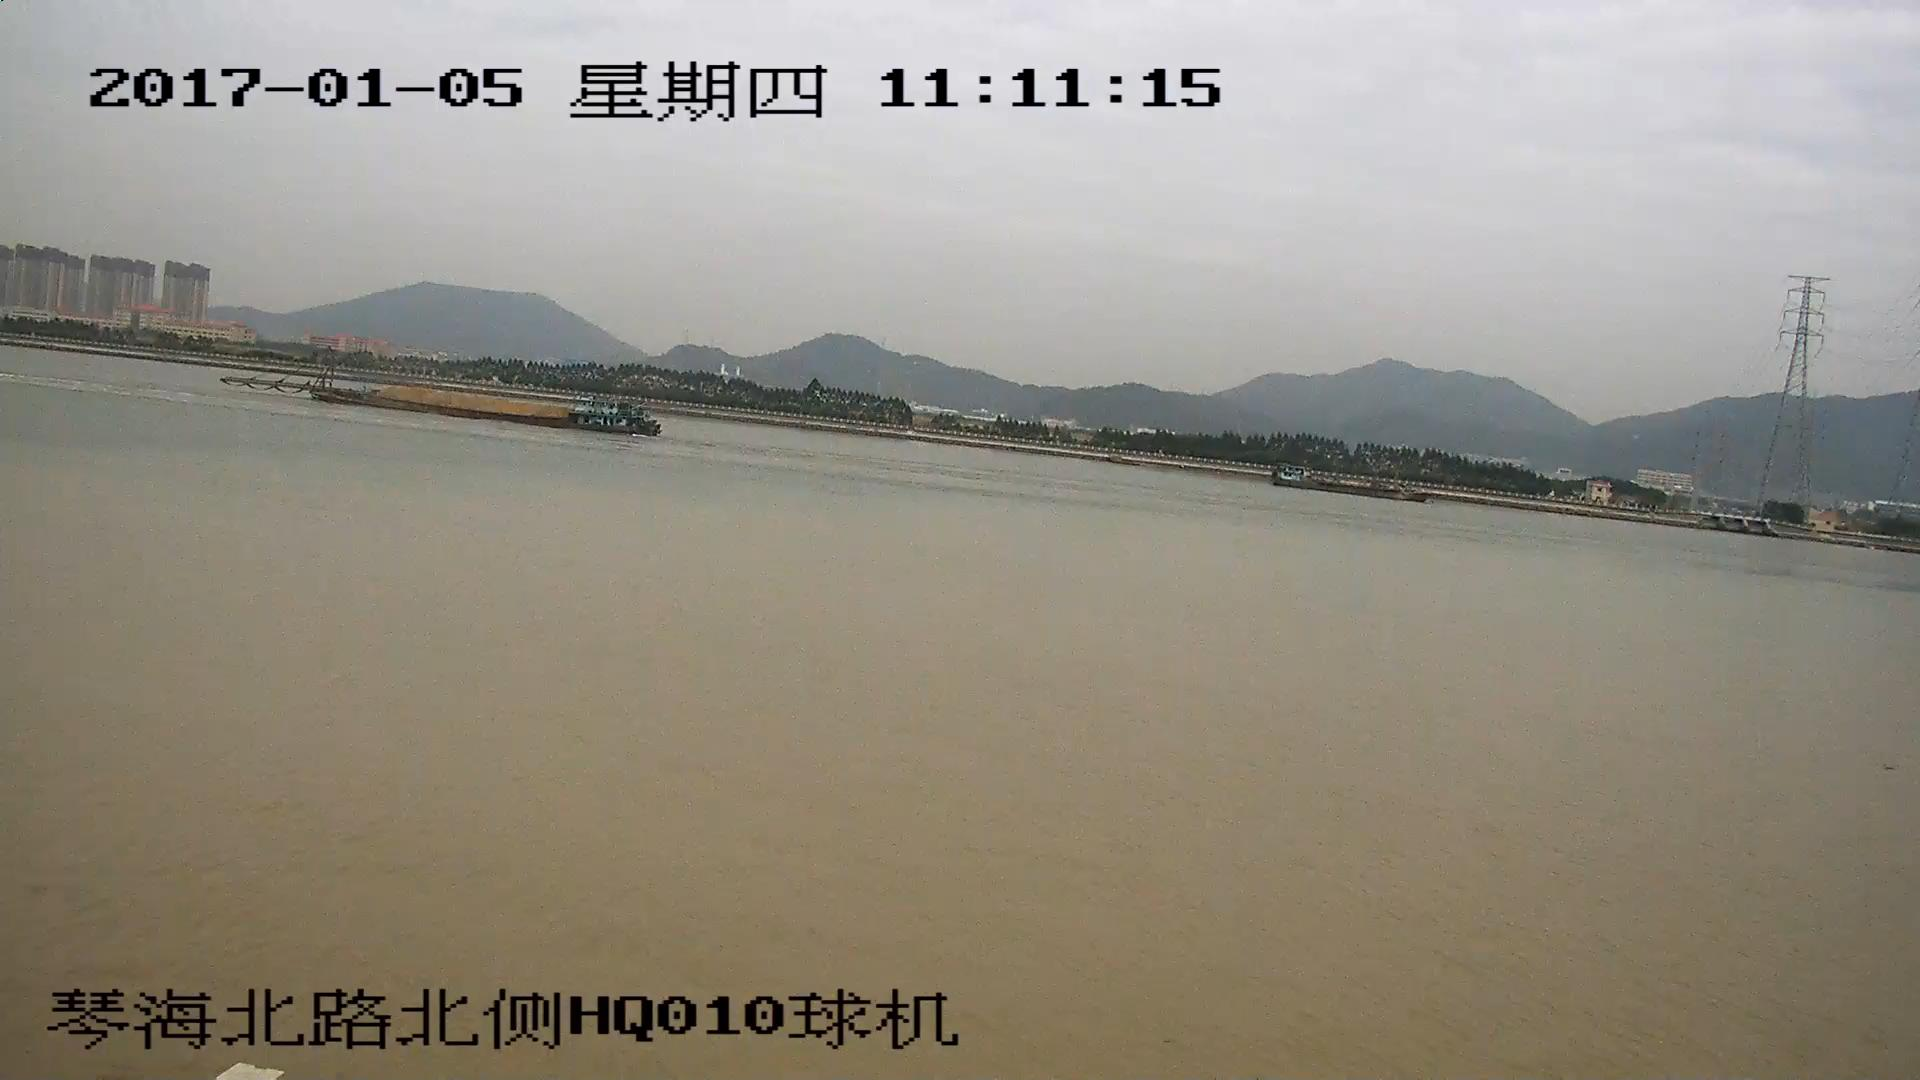ore carrier: (228, 355, 667, 433)
